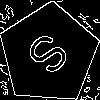S: (23, 29, 80, 85)
